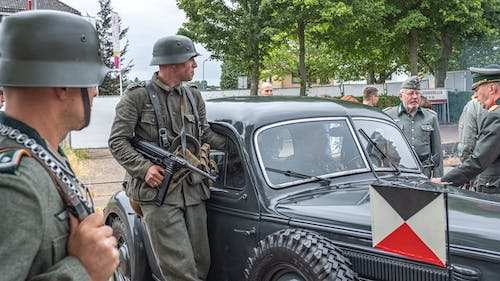gun: (129, 135, 218, 207)
